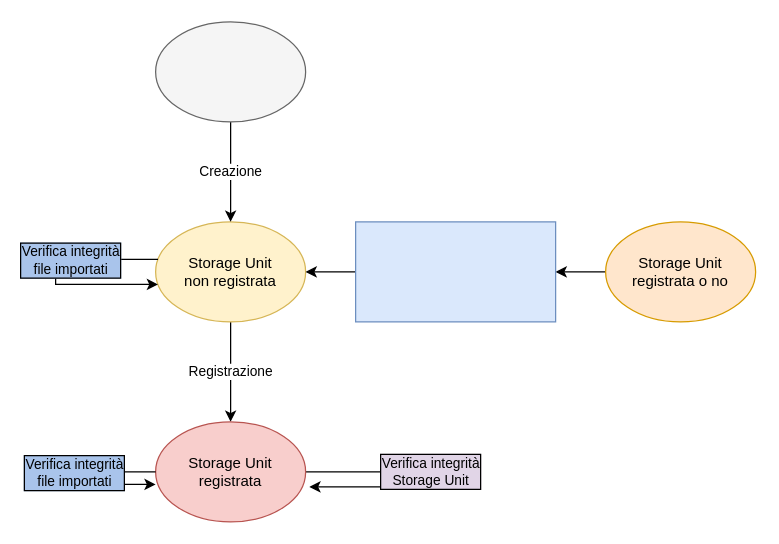
Some shapes in this 779 by 544 pixel diagram are drawn without their labels. The shapes that lost their labels are listed below. From the top down, each one's centre as x and y in pixels, then its label:
point (230, 71): Directory del File System
point (455, 271): Creato file ZIP Il contenuto viene estratto nella SU non registrata
